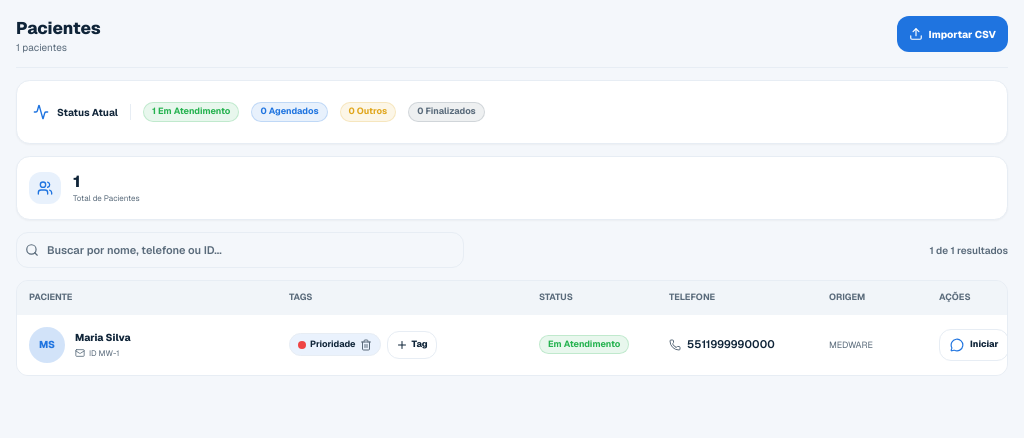
Test: PacientesClient › should_keep_the_patient_list_open_when_starting_attendance_fails
Click the button with aria-label "Iniciar atendimento para Maria Silva": (974,344) [939,328,1009,360]
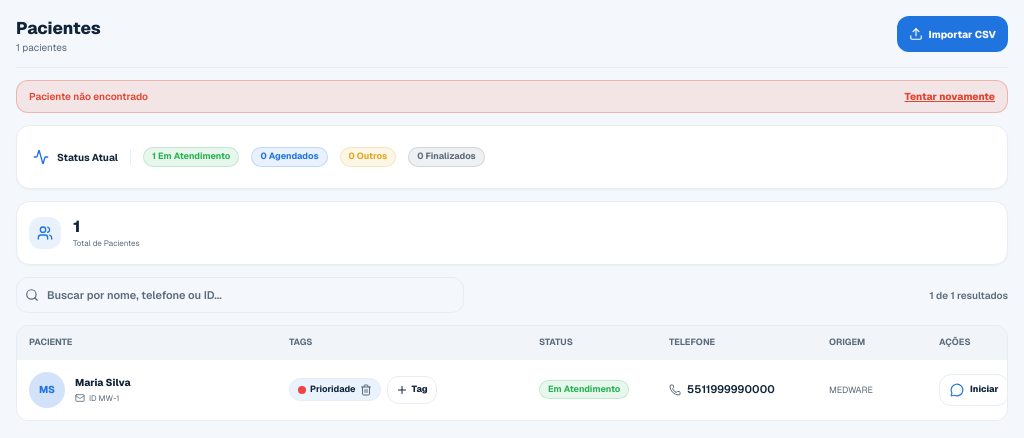
Expected: the button with aria-label "Iniciar atendimento para Maria Silva" is enabled, [939,374,1008,406]
Result: the text "Paciente não encontrado" is shown at [29,89,148,104]
